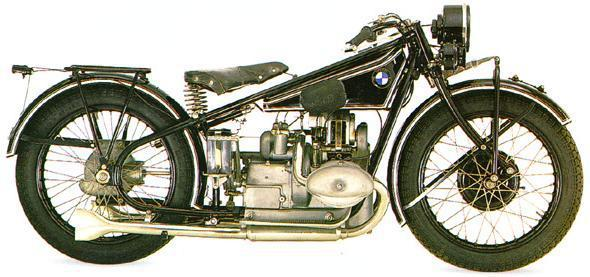motorcycle: (1, 1, 590, 277)
